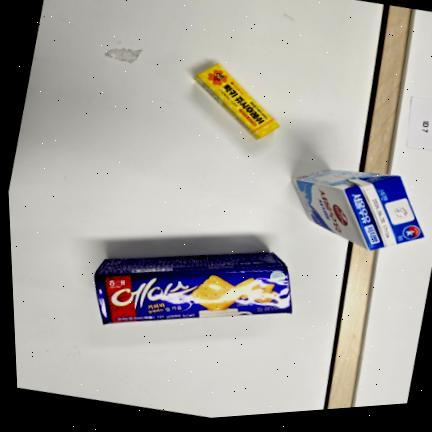cracker_ace: (94, 253, 292, 324)
gum_yellow: (195, 63, 279, 140)
milk_blue: (292, 170, 424, 250)
